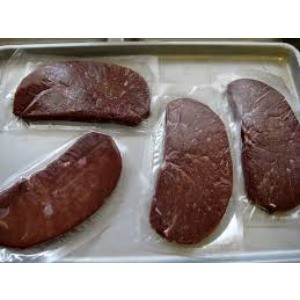liver_brain food: (159, 77, 285, 243), (12, 137, 125, 252), (18, 65, 152, 123)
